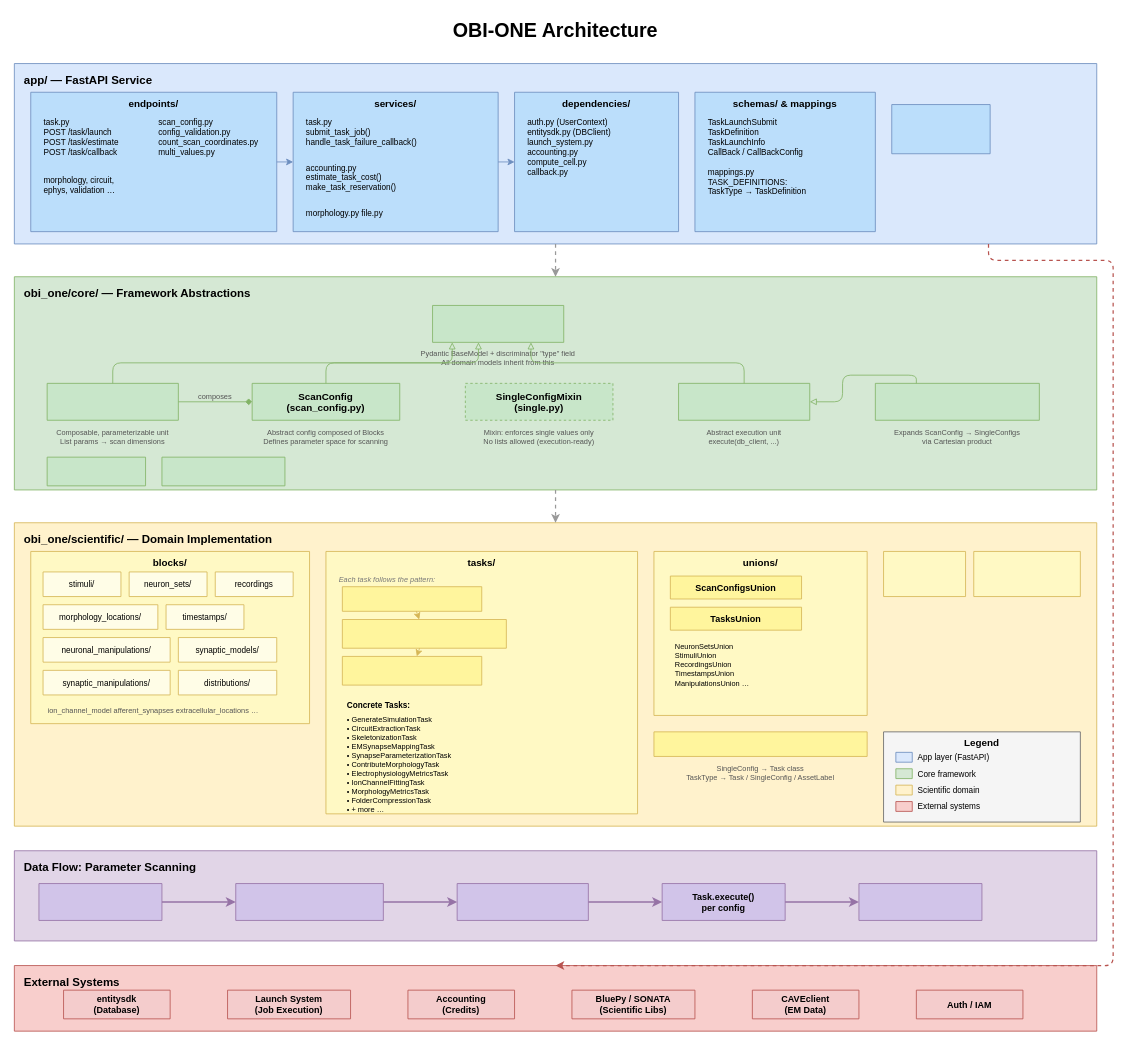
The diagram is 1135 pixels wide and 1046 high, and some of its shapes have lost their labels. The shapes that lost their labels are listed below. From the top down, each one's centre as x and y in pixels, then its label:
At pixel 940 129: "config.py Pydantic Settings (env-based)".
At pixel 498 323: "OBIBaseModel (base.py)".
At pixel 112 401: "Block (block.py)".
At pixel 744 401: "Task (task.py)".
At pixel 957 401: "ScanGenerationTask (scan_generation.py)".
At pixel 96 471: "ScanParam (param.py)".
At pixel 223 471: "BlockReference (block_reference.py)".
At pixel 924 574: "from_id/ Lazy-load by entity ID".
At pixel 1026 574: "library/ Reusable scientific utility functions".
At pixel 412 598: "[Domain]ScanConfig".
At pixel 424 633: "[Domain]SingleConfig = ScanConfig + SingleConfigMixin".
At pixel 412 670: "[Domain]Task execute(db_client, ...)".
At pixel 760 743: "config_task_map.py".
At pixel 100 901: "ScanConfig (with list params)".
At pixel 309 901: "ScanGenerationTask Cartesian product".
At pixel 522 901: "N × SingleConfig (single values)".
At pixel 920 901: "Output Entities (entitysdk)".
